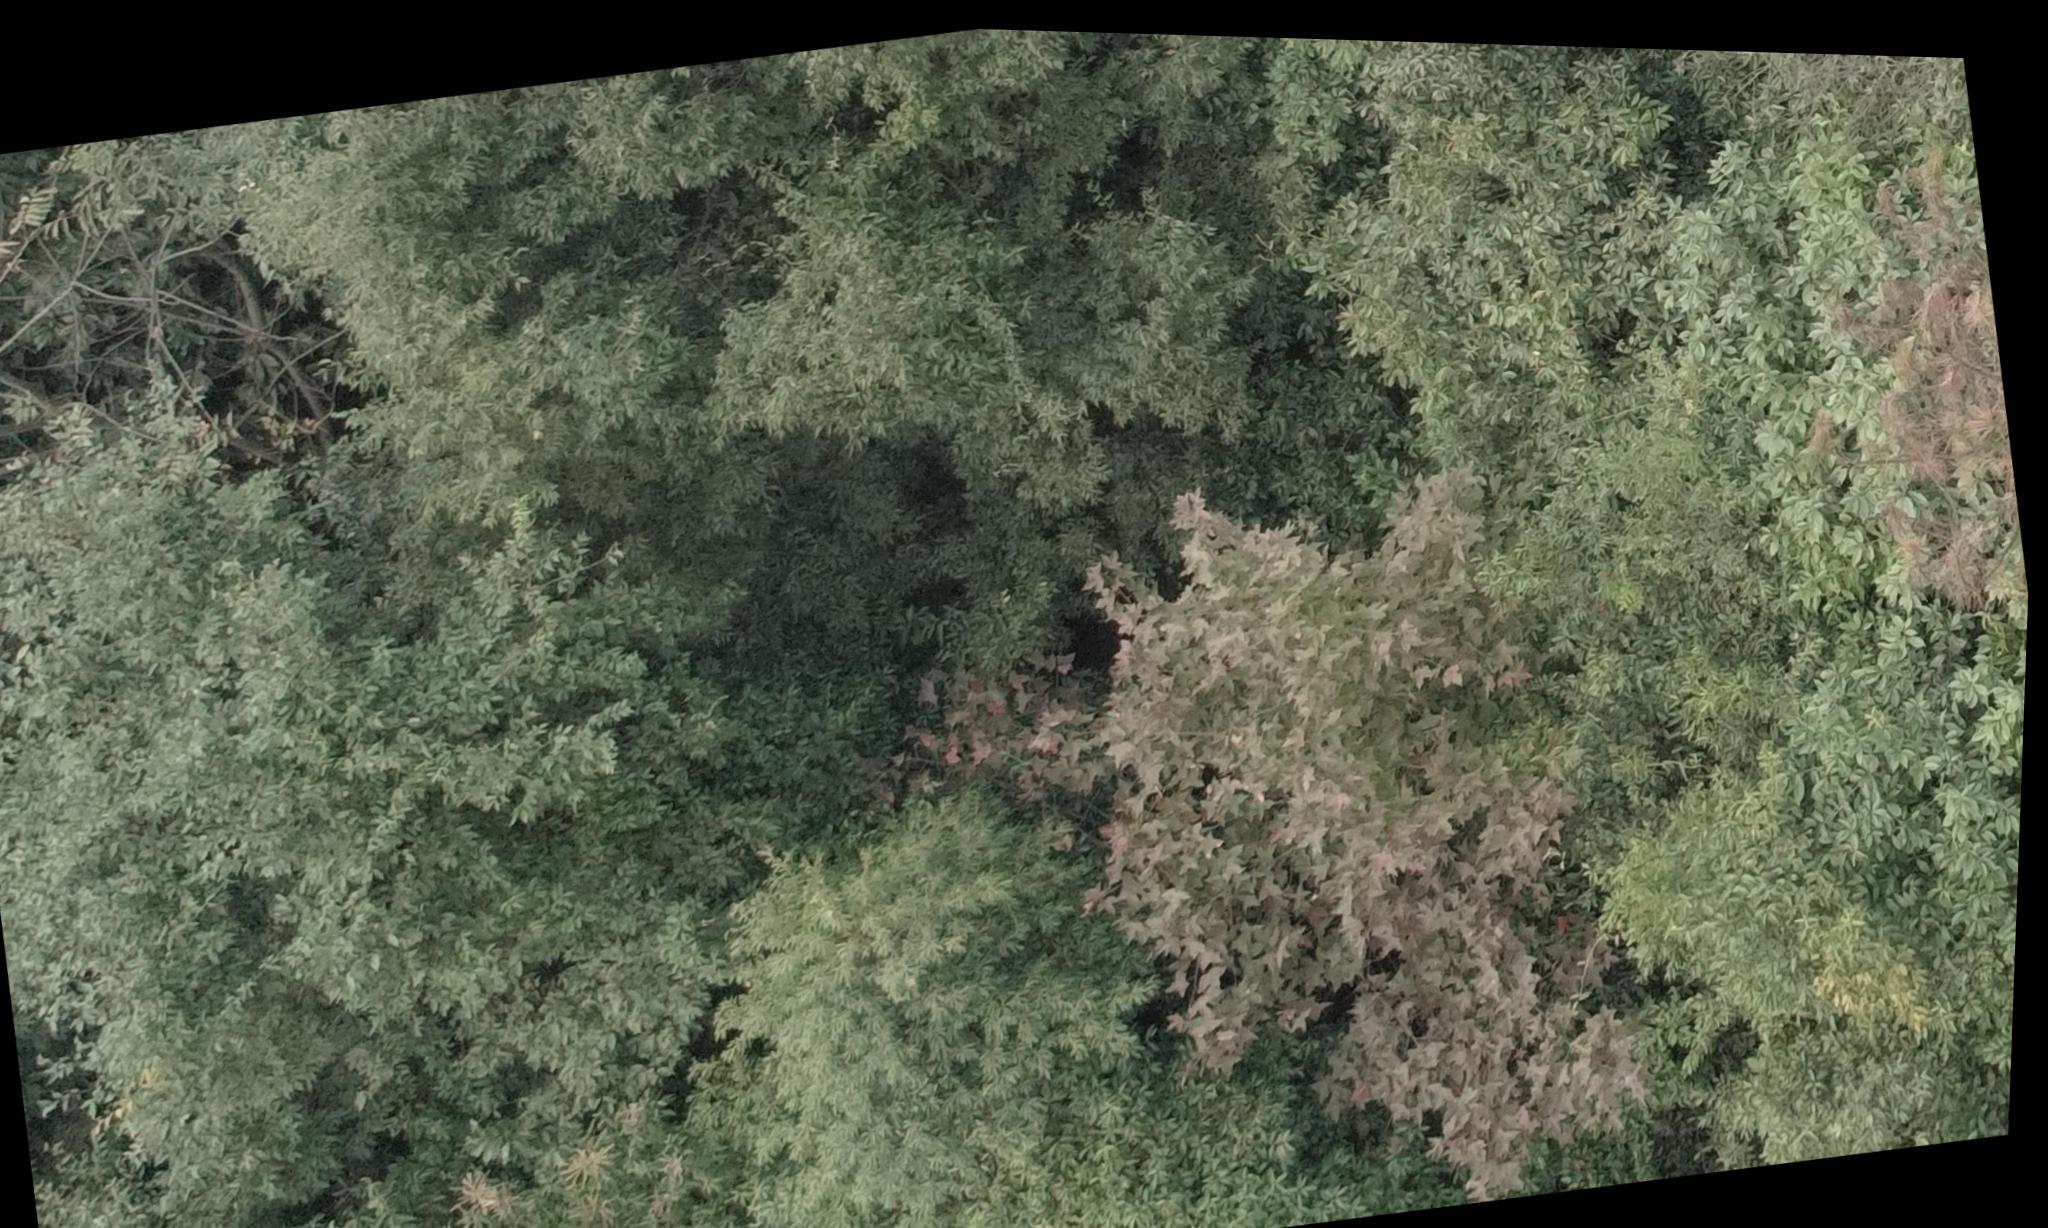heavy: (1760, 146, 2028, 646)
